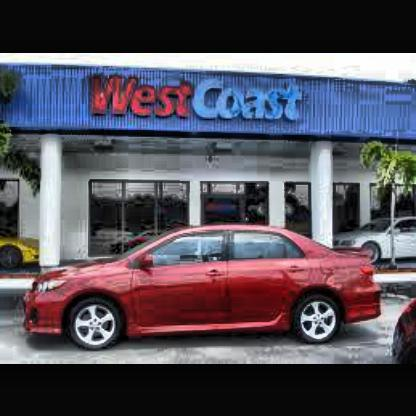Toyota Corolla Sedan 2012: (17, 216, 391, 354)
